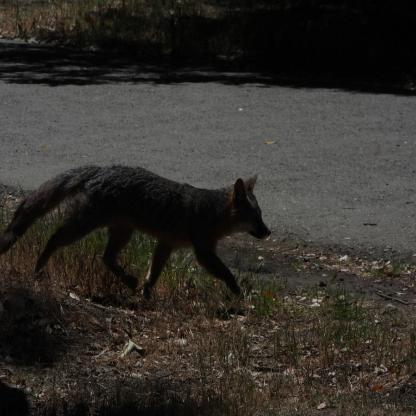zorro: (0, 158, 272, 317)
